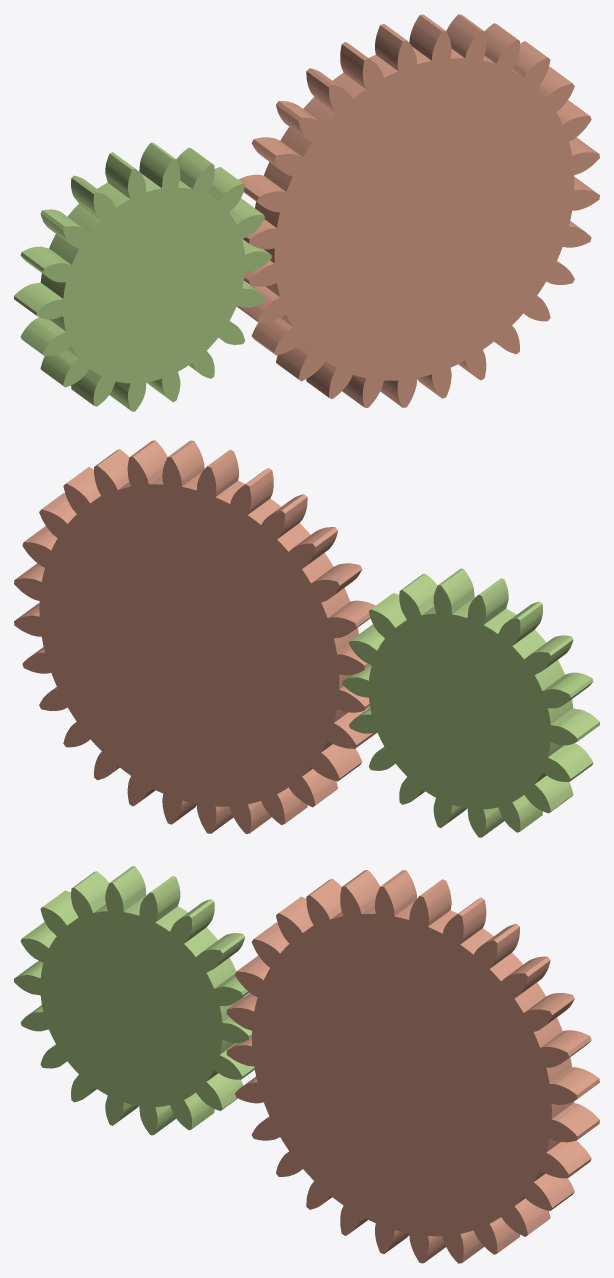
File: spur_gear_pair_demo.glb
3 views of the same model, one above another, from view 1: azimuth 30°, elevation 25°; view 2: azimuth 150°, elevation 25°; view 3: azimuth 330°, elevation 25° (orthographic).
Parts seen in each view (by area): view 1: 28_tooth_driven, 18_tooth_driver; view 2: 28_tooth_driven, 18_tooth_driver; view 3: 28_tooth_driven, 18_tooth_driver.
Boxes of the visible parts, <box> form: 28_tooth_driven: <box>236,14,599,407</box>; 18_tooth_driver: <box>14,142,271,411</box>; 28_tooth_driven: <box>14,440,377,833</box>; 18_tooth_driver: <box>342,568,599,837</box>; 28_tooth_driven: <box>226,870,599,1263</box>; 18_tooth_driver: <box>14,866,254,1135</box>.
Size of the model in its own units: 71.88 by 44.77 by 5.
